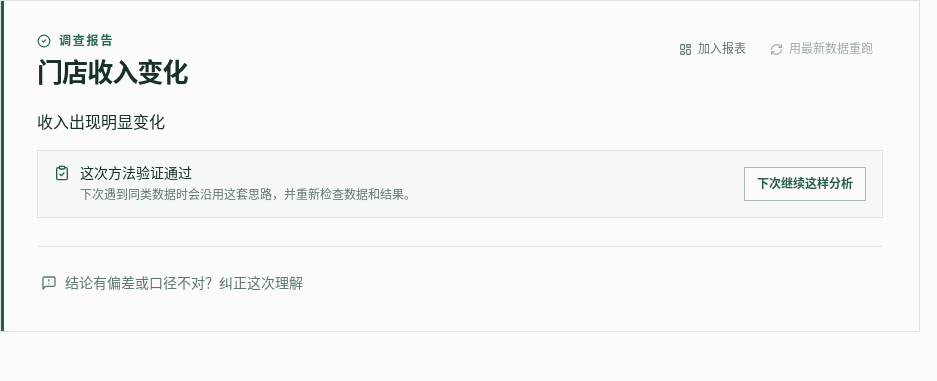
Test: AssistantMessageCard › turns a validated reusable analysis into a standing brief
The image size is (937, 381).
Click the button "下次继续这样分析". click: (805, 184)
box: x1=744 y1=166 x2=866 y2=200
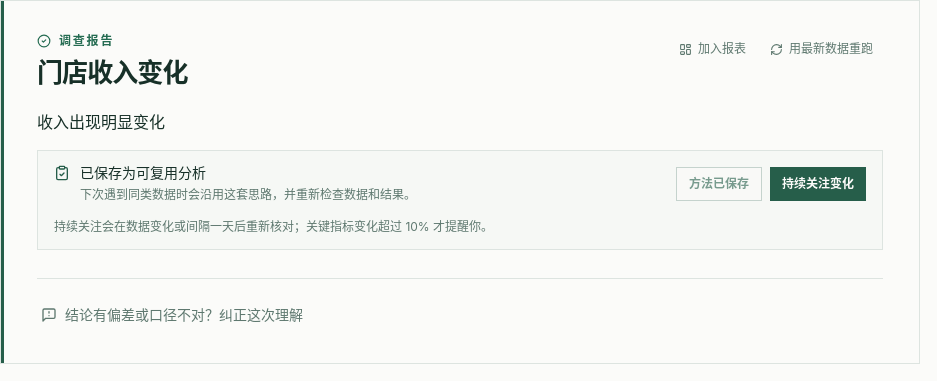
Now the button "持续关注变化" is shown
Click the button "持续关注变化". click: (818, 184)
box: x1=770 y1=166 x2=866 y2=200
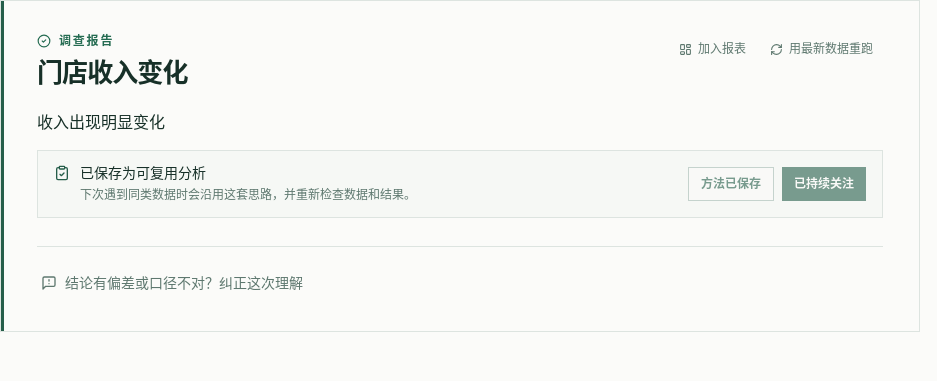
Now the button "已持续关注" is disabled, box x1=782 y1=166 x2=866 y2=200
